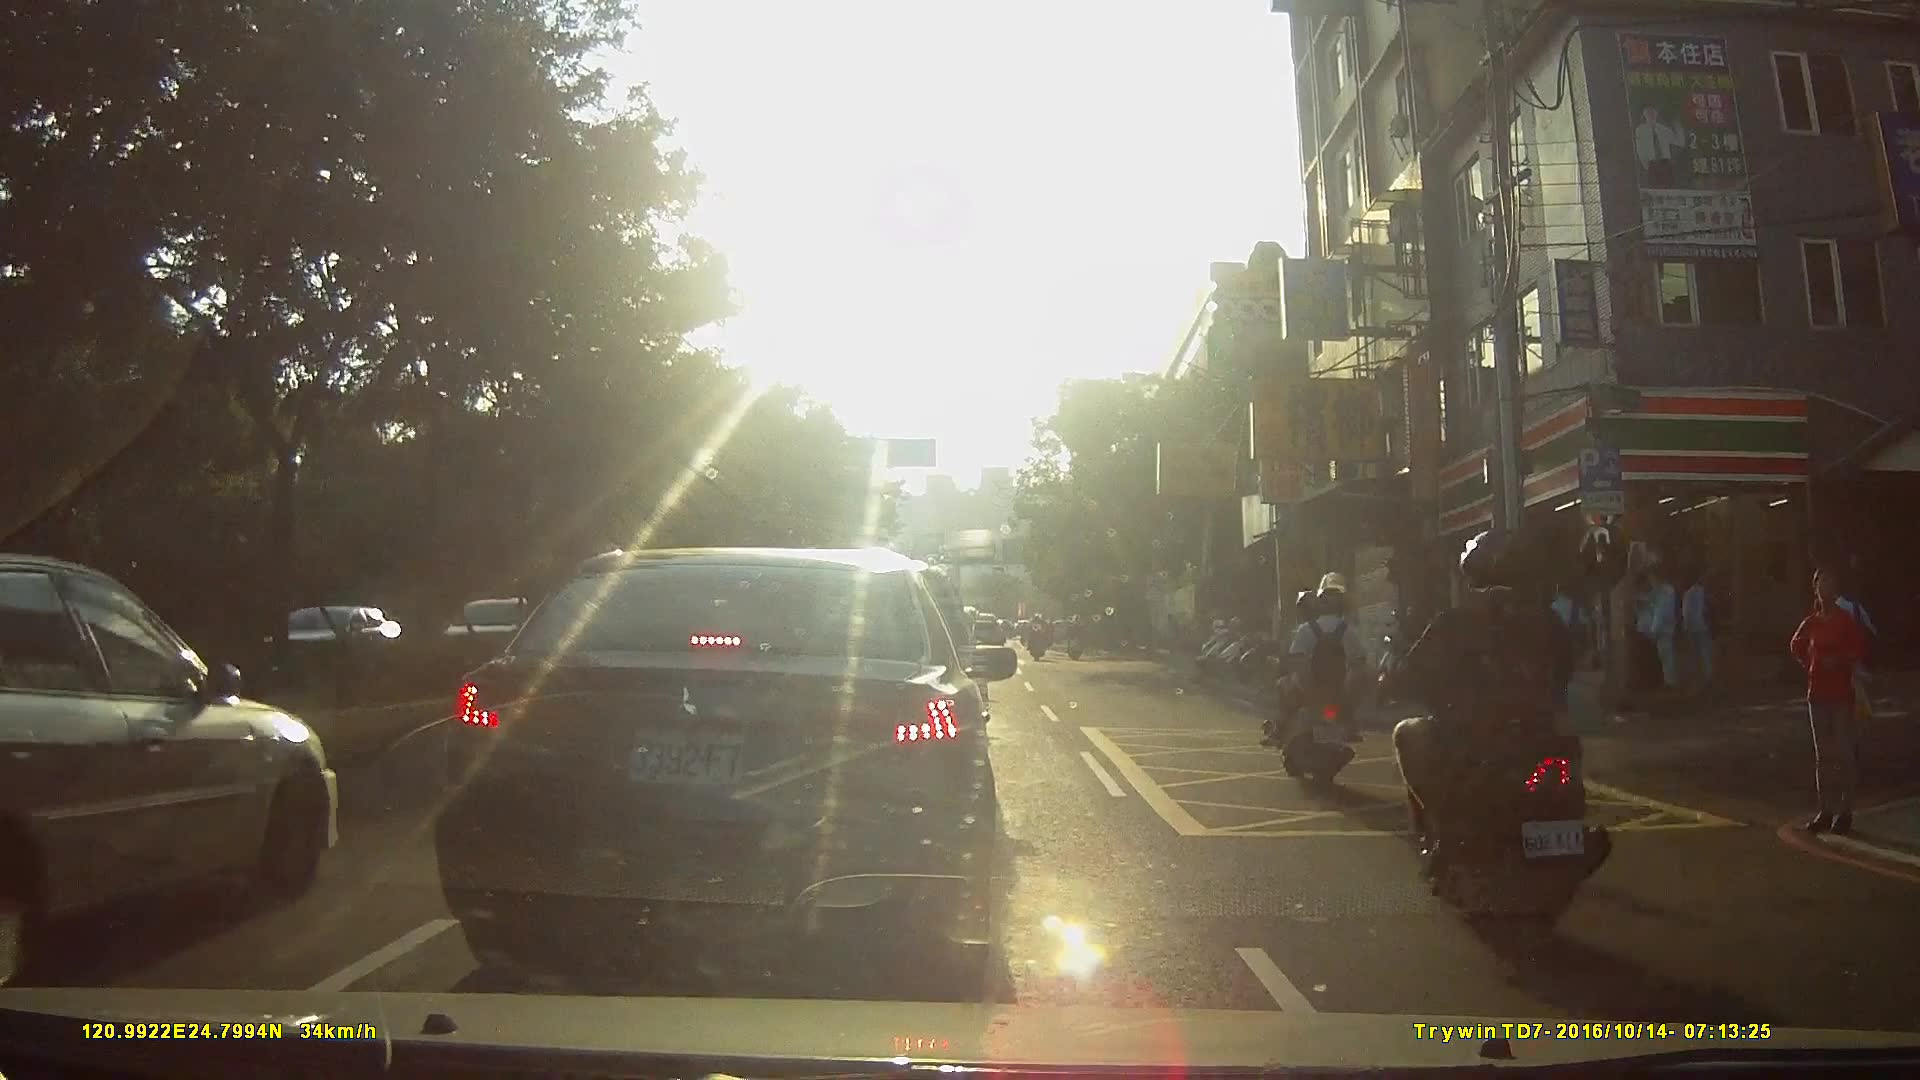pedestrian: (1791, 567, 1871, 838), (1635, 566, 1677, 694), (1680, 565, 1723, 686), (1627, 569, 1663, 701)
rider: (1391, 527, 1606, 946), (1258, 573, 1369, 785), (1027, 610, 1049, 663), (1064, 615, 1086, 663)
vehicle: (443, 537, 1040, 976), (2, 554, 351, 954)
